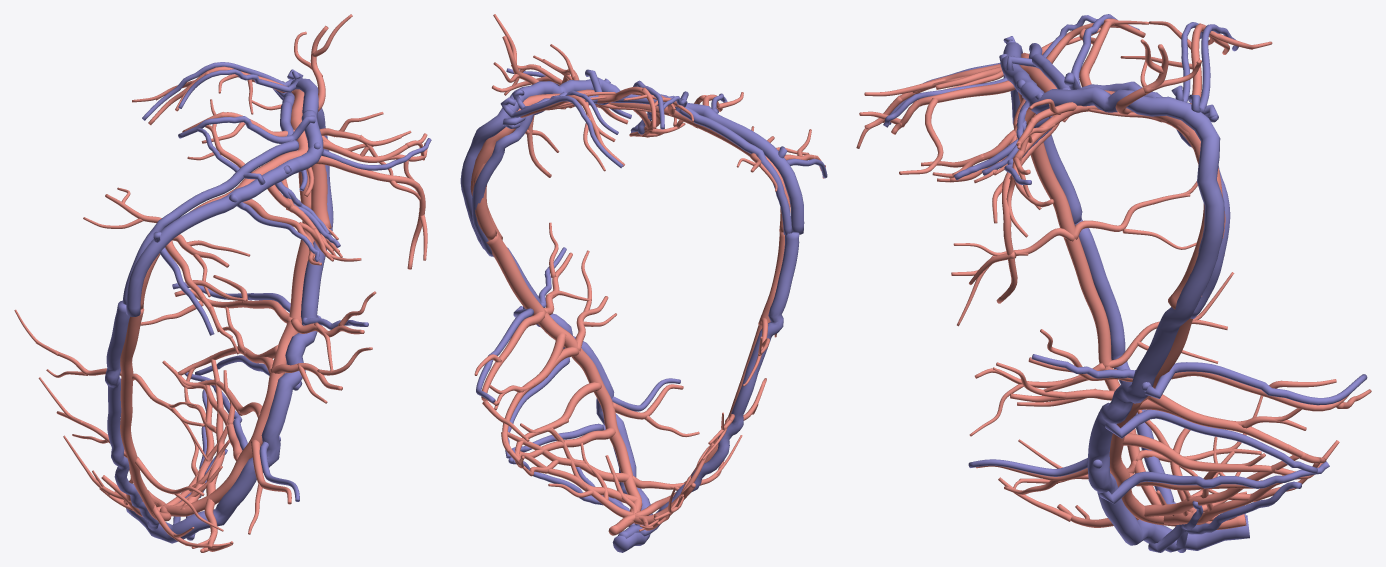
Rendered from vessels_51.glb.
3 renders of one model, left to right at view 1: azimuth 30°, elevation 25°; view 2: azimuth 150°, elevation 25°; view 3: azimuth 270°, elevation 25°, orthographic. The views are drawn at different scales.
Parts seen in each view (by area): view 1: Renderer Node; view 2: Renderer Node; view 3: Renderer Node.
Boxes of the visible parts, left/top/right/bottom form: Renderer Node: left=14, top=14, right=431, bottom=552; Renderer Node: left=460, top=14, right=827, bottom=552; Renderer Node: left=856, top=14, right=1371, bottom=552.
Bounding box in the file's own units: 87.54 × 120 × 90.92.
